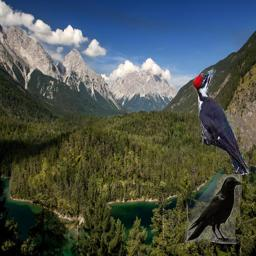Crow: (185, 174, 242, 244)
Woodpecker: (191, 67, 251, 177)
